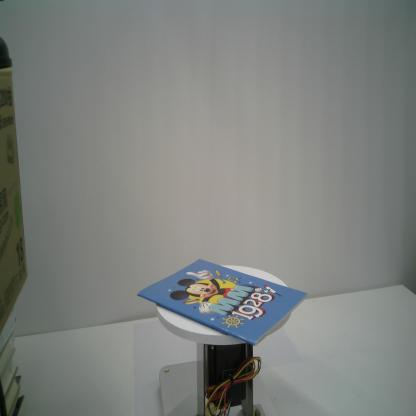Stationery: (137, 258, 308, 348)
